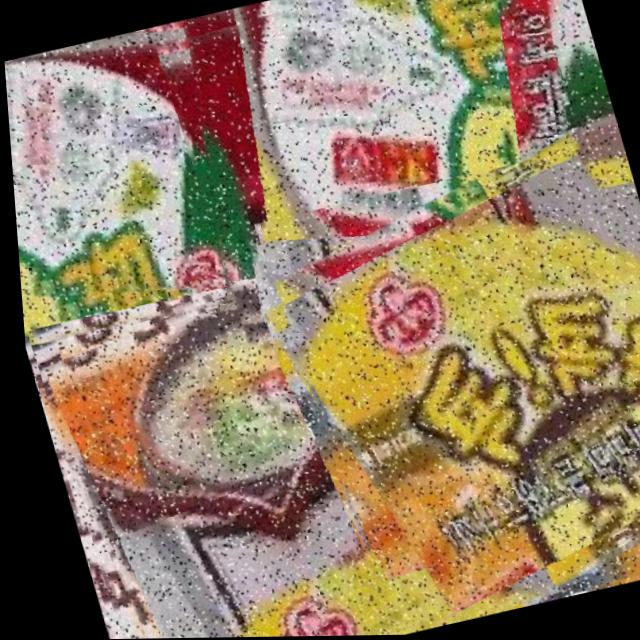Miscellaneous: (14, 237, 511, 640), (245, 140, 640, 638), (146, 0, 614, 347), (0, 0, 454, 353)
